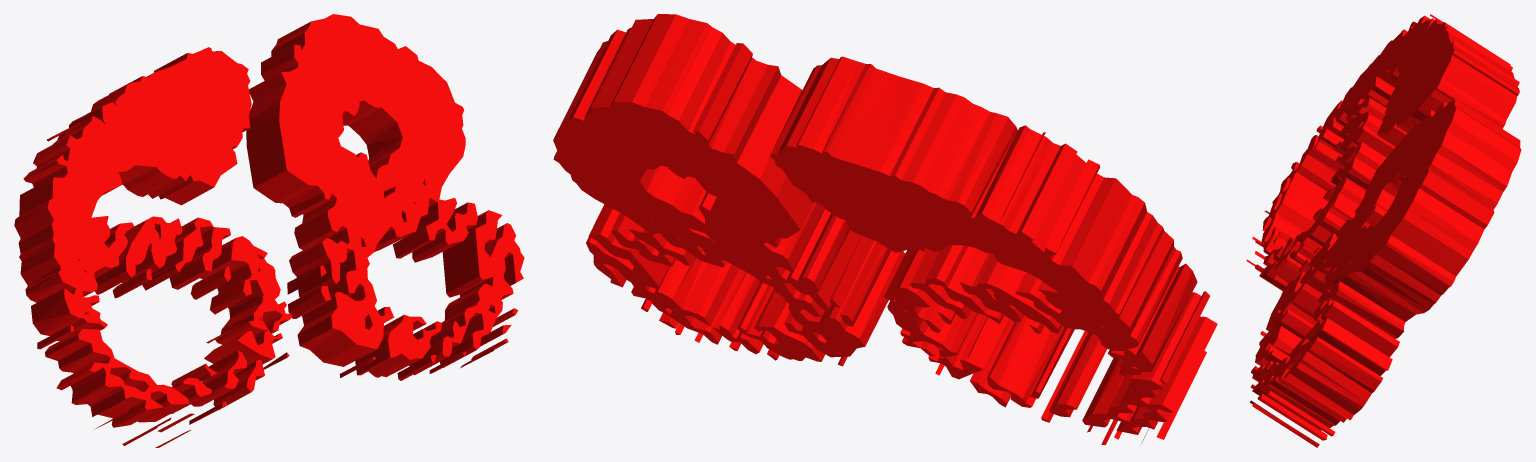
Rendered from luz68.obj.
The picture shows the model from 3 angles, left to right: view 1: azimuth 30°, elevation 25°; view 2: azimuth 150°, elevation 25°; view 3: azimuth 270°, elevation 25°; orthographic projection. The views are drawn at different scales.
Visible parts, largest first — view 1: luz68; view 2: luz68; view 3: luz68.
Part boxes in pixels (x1,y1,x2,y2): luz68: (14,14,524,447); luz68: (553,14,1217,445); luz68: (1246,14,1521,447).
Size of the model in its own units: 0.917 by 0.6311 by 0.5024.
